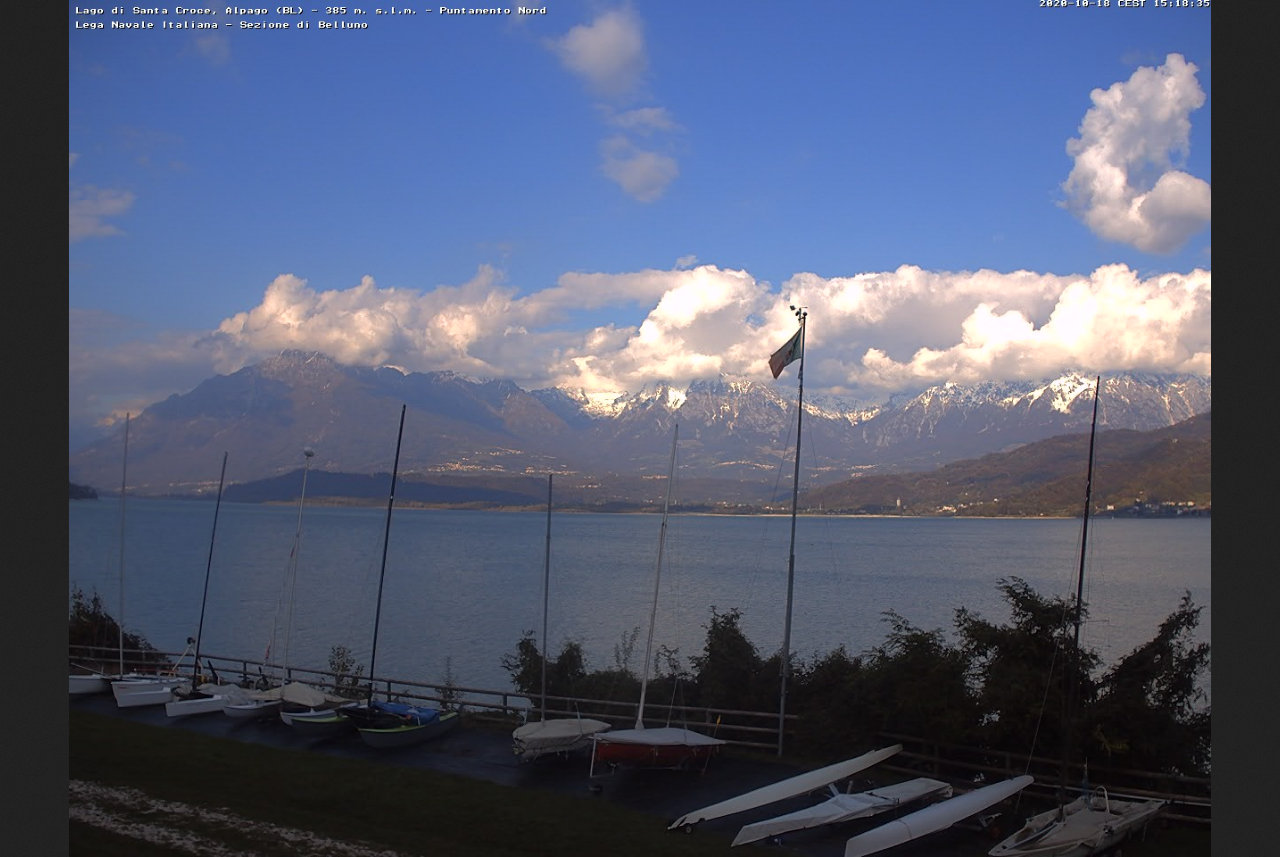maybe: (769, 317, 810, 383)
